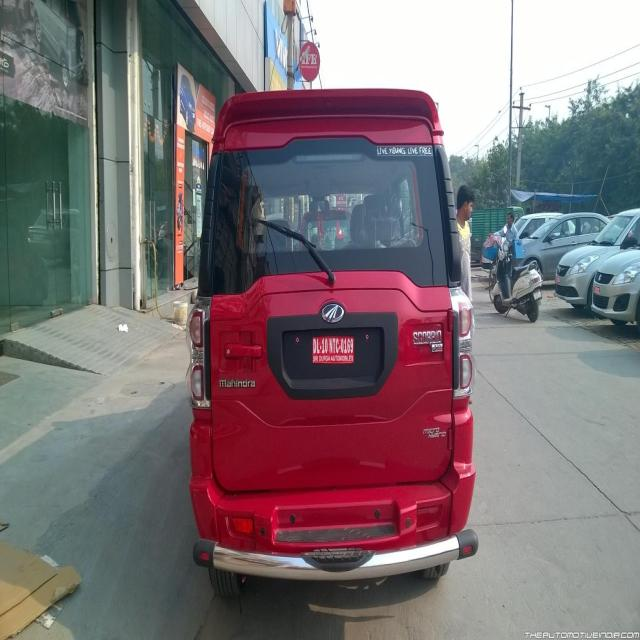number_plate: (308, 329, 356, 357)
